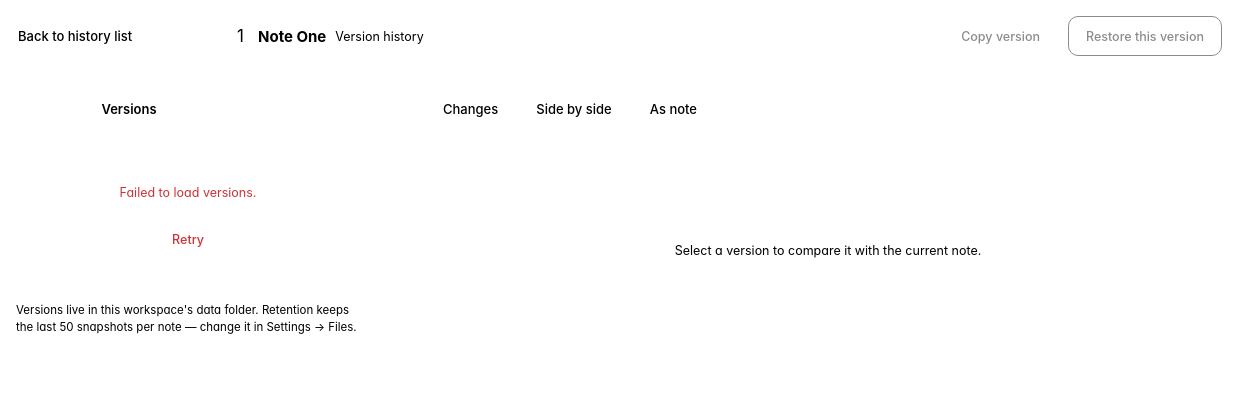
Test case: HistoryView › a failed timeline load offers retry
Expected: the message "Failed to load versions. Retry" is shown, [120, 184, 256, 254]
Click the button with class "history-timeline__retry" at coordinates (188, 240), box [159, 226, 217, 254]
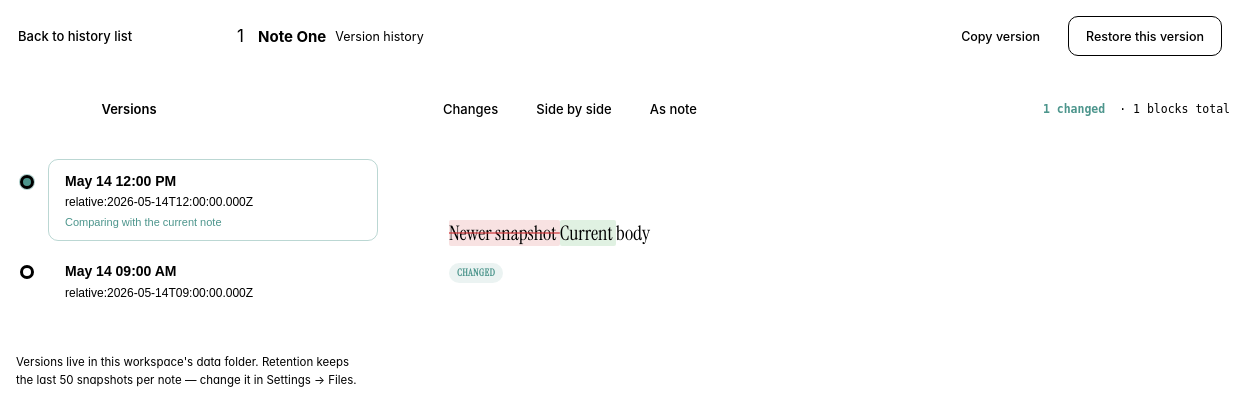
Now the number of buttons with class "history-timeline__entry" is 2, box [20, 159, 378, 241]; [20, 249, 378, 314]
